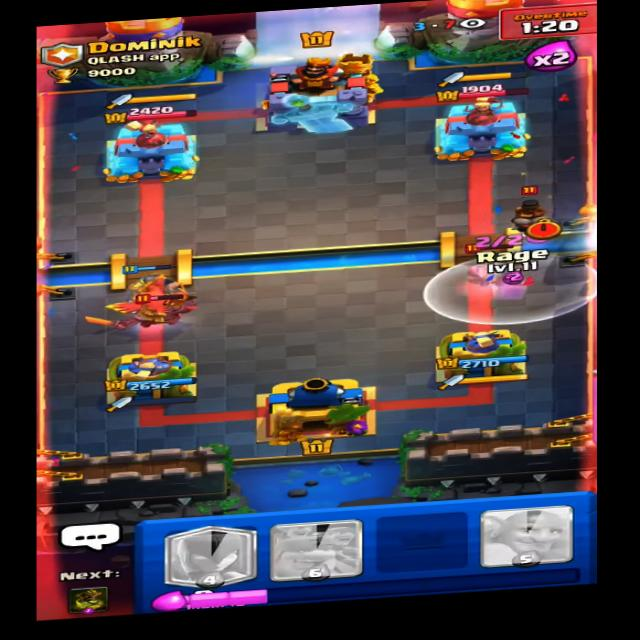pekka: (120, 286, 207, 340)
ram-rider: (503, 184, 565, 238)
royal-ghost: (459, 243, 543, 300)
